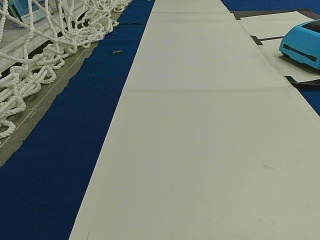car: (278, 18, 319, 69)
